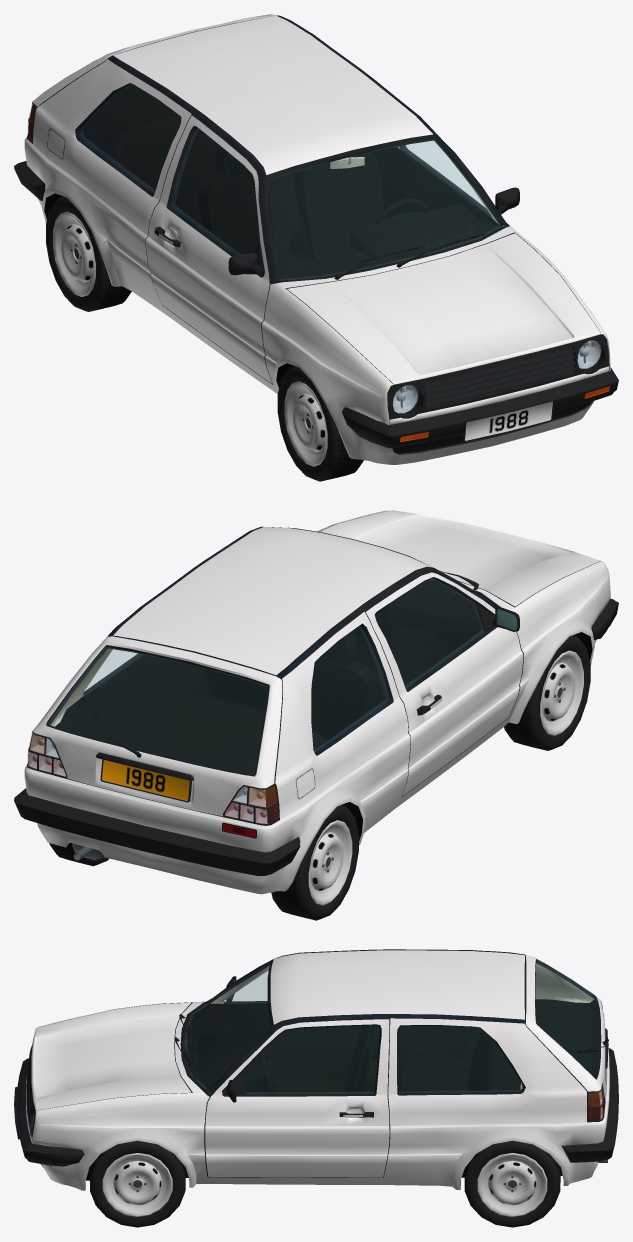
The model's file is hatch.glb.
3 views of the same model, one above another, from view 1: azimuth 30°, elevation 25°; view 2: azimuth 150°, elevation 25°; view 3: azimuth 270°, elevation 25° (orthographic). The views are drawn at different scales.
Parts seen in each view (by area): view 1: Object_5, Object_7, Object_35, Object_17, Object_19, Object_31, Object_29, Object_33, Object_11; view 2: Object_5, Object_7, Object_35, Object_29, Object_17, Object_31, Object_19, Object_23, Object_33; view 3: Object_5, Object_7, Object_35, Object_15, Object_27, Object_25, Object_13, Object_23.
Part boxes in pixels (x1,y1,x2,y2): Object_5: (24, 14, 610, 464); Object_7: (14, 15, 618, 454); Object_35: (81, 85, 500, 279); Object_17: (277, 366, 363, 481); Object_19: (284, 381, 327, 466); Object_31: (53, 211, 95, 296); Object_29: (46, 196, 131, 311); Object_33: (392, 340, 600, 413); Object_11: (394, 341, 601, 414); Object_5: (24, 510, 610, 894); Object_7: (14, 518, 618, 875); Object_35: (48, 579, 483, 774); Object_29: (271, 805, 358, 920); Object_17: (504, 635, 590, 750); Object_31: (308, 820, 352, 905); Object_19: (540, 650, 583, 735); Object_23: (27, 733, 278, 824); Object_33: (28, 734, 267, 823); Object_5: (26, 950, 609, 1190); Object_7: (14, 949, 618, 1188); Object_35: (185, 961, 599, 1093); Object_15: (102, 1153, 172, 1216); Object_27: (477, 1153, 547, 1216); Object_25: (464, 1140, 560, 1227); Object_13: (90, 1140, 185, 1227); Object_23: (588, 1085, 604, 1120).
Bounding box in the file's own units: 1.79 × 1.46 × 4.
Materials: 6 (6 with a texture image).
